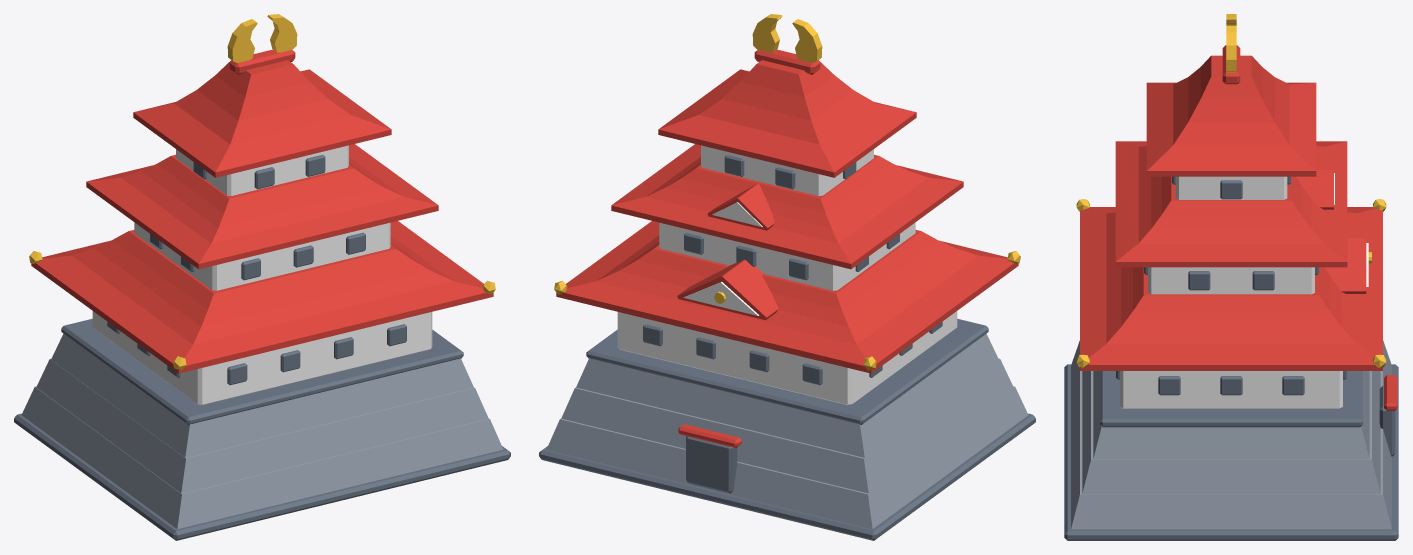
File: Prop_samurai_castle_CastleKeep.glb
3 renders of one model, left to right at view 1: azimuth 30°, elevation 25°; view 2: azimuth 150°, elevation 25°; view 3: azimuth 270°, elevation 25°, orthographic. The views are drawn at different scales.
Visible parts, largest first — view 1: ZoneRed_E0453C, StoneLight_9AA4B2, StoneDark_6B7686, PlasterWhite_FFFFFF, Gold_FFC83D; view 2: ZoneRed_E0453C, StoneLight_9AA4B2, StoneDark_6B7686, PlasterWhite_FFFFFF, Gold_FFC83D; view 3: ZoneRed_E0453C, StoneLight_9AA4B2, StoneDark_6B7686, PlasterWhite_FFFFFF, Gold_FFC83D.
Part boxes in pixels (x1=…): ZoneRed_E0453C: x1=31, y1=49, x2=493, y2=373; StoneLight_9AA4B2: x1=21, y1=333, x2=503, y2=529; StoneDark_6B7686: x1=14, y1=154, x2=510, y2=540; PlasterWhite_FFFFFF: x1=92, y1=145, x2=432, y2=405; Gold_FFC83D: x1=29, y1=14, x2=495, y2=370; ZoneRed_E0453C: x1=556, y1=49, x2=1018, y2=447; StoneLight_9AA4B2: x1=546, y1=333, x2=1028, y2=529; StoneDark_6B7686: x1=539, y1=154, x2=1035, y2=540; PlasterWhite_FFFFFF: x1=617, y1=145, x2=957, y2=405; Gold_FFC83D: x1=554, y1=14, x2=1020, y2=370; ZoneRed_E0453C: x1=1080, y1=45, x2=1397, y2=410; StoneLight_9AA4B2: x1=1071, y1=340, x2=1391, y2=529; StoneDark_6B7686: x1=1064, y1=176, x2=1398, y2=540; PlasterWhite_FFFFFF: x1=1120, y1=173, x2=1368, y2=408; Gold_FFC83D: x1=1076, y1=14, x2=1386, y2=367.
Bounding box in the file's own units: 36 × 43.16 × 30.
